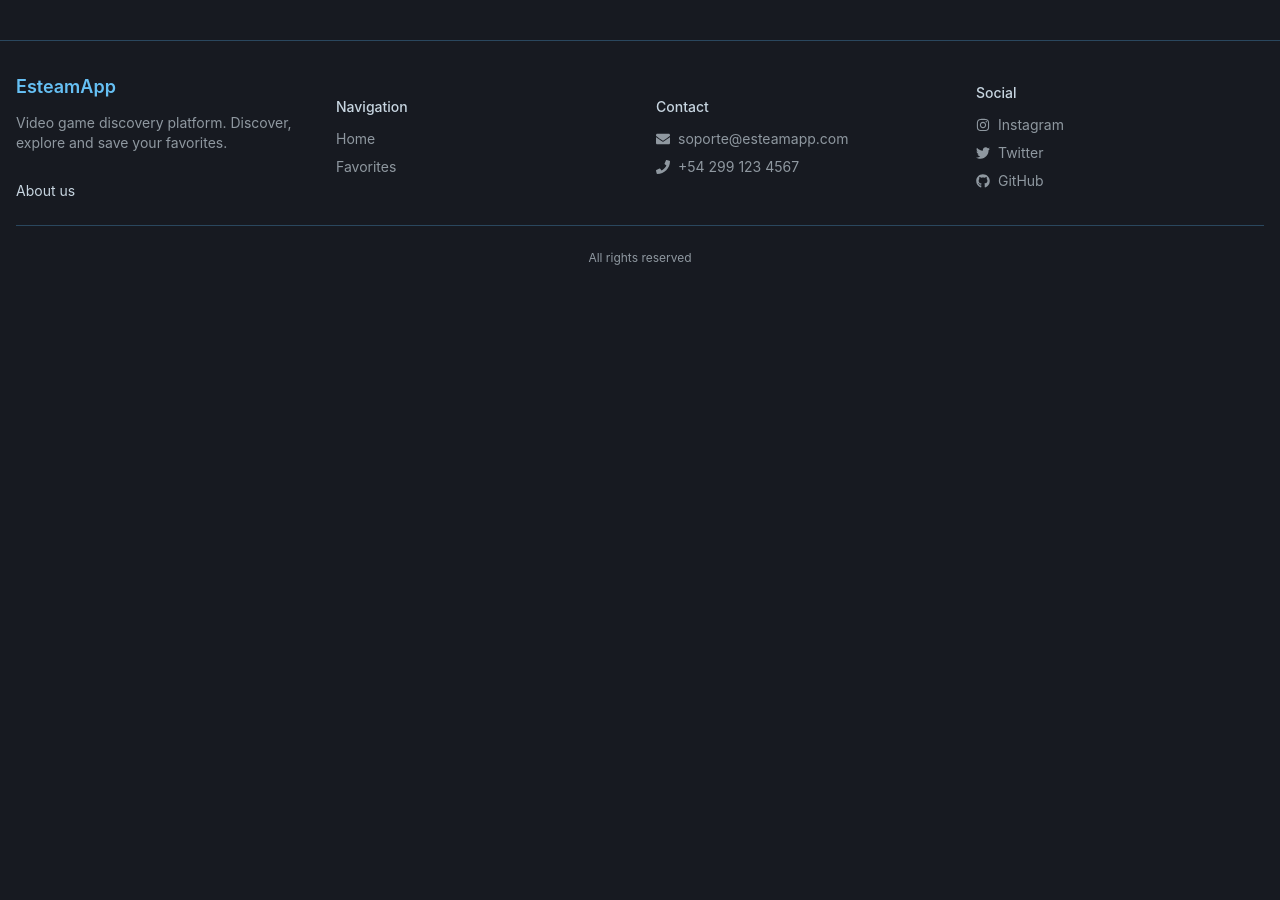
Test: Footer Component › abre correctamente el modal nosotros al hacer click en About Us
Click the button "About us".
click(46, 191)  # box [16, 181, 75, 201]
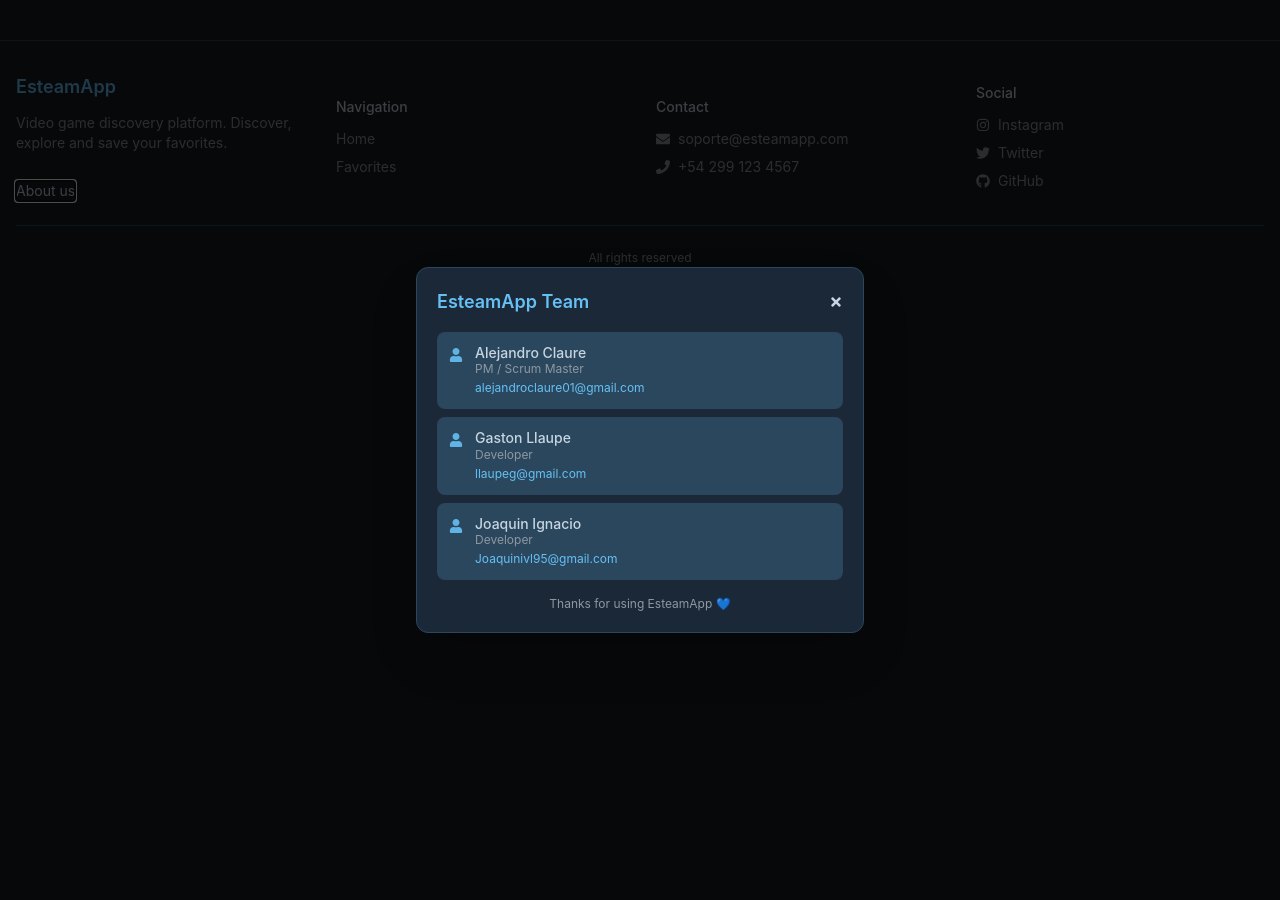
Now the heading "EsteamApp Team" is shown, box [437, 288, 589, 316]
